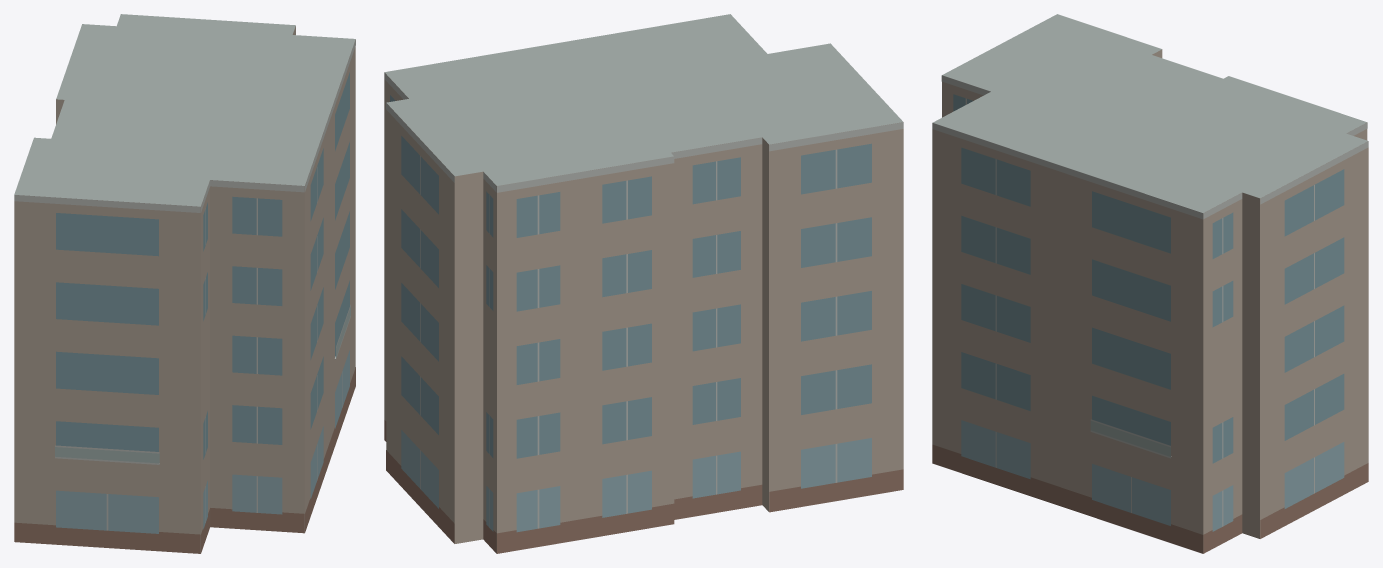
File: survey-upis-32879932.glb
3 views of the same model, side by side, from view 1: azimuth 30°, elevation 25°; view 2: azimuth 150°, elevation 25°; view 3: azimuth 270°, elevation 25° (orthographic). The views are drawn at different scales.
Parts seen in each view (by area): view 1: survey-upis-32879932.tmp; view 2: survey-upis-32879932.tmp; view 3: survey-upis-32879932.tmp.
Boxes of the visible parts, x1=… form: survey-upis-32879932.tmp: x1=14, y1=14, x2=355, y2=553; survey-upis-32879932.tmp: x1=384, y1=14, x2=903, y2=553; survey-upis-32879932.tmp: x1=932, y1=14, x2=1368, y2=553.
Size of the model in its own units: 16.56 by 13.2 by 15.32.
